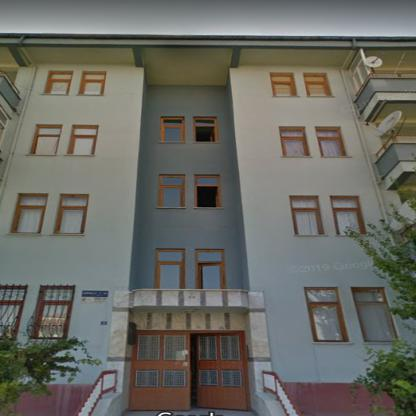door: (132, 334, 246, 411)
window: (352, 289, 397, 342), (306, 288, 347, 341), (36, 287, 74, 338), (0, 288, 27, 338), (12, 195, 48, 232), (57, 195, 88, 234), (331, 198, 364, 234), (290, 197, 320, 235), (197, 251, 225, 289), (156, 250, 182, 289), (33, 126, 61, 155), (316, 129, 346, 156), (160, 175, 185, 207), (195, 175, 219, 207), (69, 126, 95, 155), (281, 128, 306, 156), (303, 75, 331, 96), (270, 74, 296, 96), (161, 118, 184, 142), (46, 73, 71, 94), (194, 119, 216, 142), (81, 73, 104, 93)
